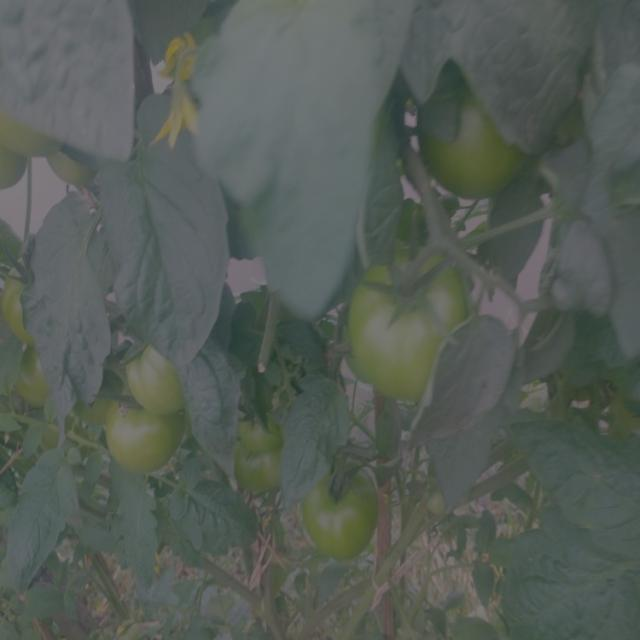tomato: (351, 257, 463, 396), (418, 82, 527, 190), (306, 457, 379, 553), (3, 116, 85, 194), (109, 410, 187, 474), (130, 344, 192, 406), (243, 413, 288, 497), (5, 261, 48, 337), (13, 344, 65, 406), (424, 490, 448, 515)
